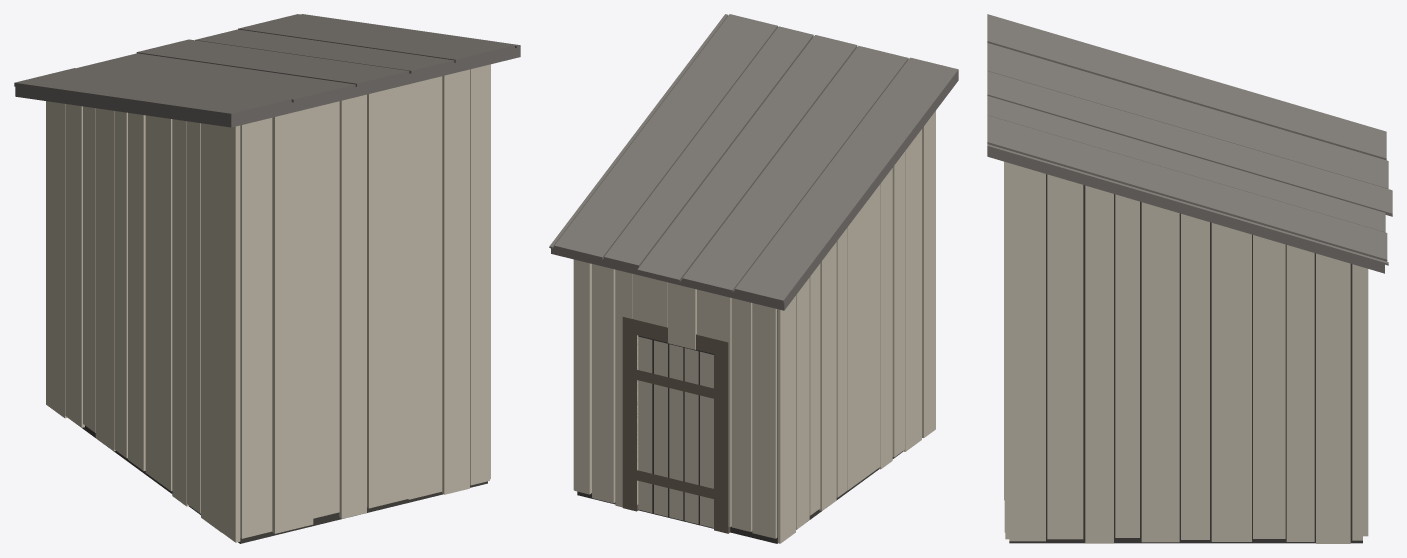
File: recon_1835_south_a4_042__inferred_1835.glb
3 renders of one model, left to right at view 1: azimuth 30°, elevation 25°; view 2: azimuth 150°, elevation 25°; view 3: azimuth 270°, elevation 25°, orthographic. The views are drawn at different scales.
Parts seen in each view (by area): view 1: recon_1835_south_a4_042__inferred_1835; view 2: recon_1835_south_a4_042__inferred_1835; view 3: recon_1835_south_a4_042__inferred_1835.
Boxes of the visible parts, <box> form: recon_1835_south_a4_042__inferred_1835: <box>14,14,520,543</box>; recon_1835_south_a4_042__inferred_1835: <box>549,14,958,543</box>; recon_1835_south_a4_042__inferred_1835: <box>987,14,1392,543</box>.
Bounding box in the file's own units: 2.6 × 3.82 × 3.43.
